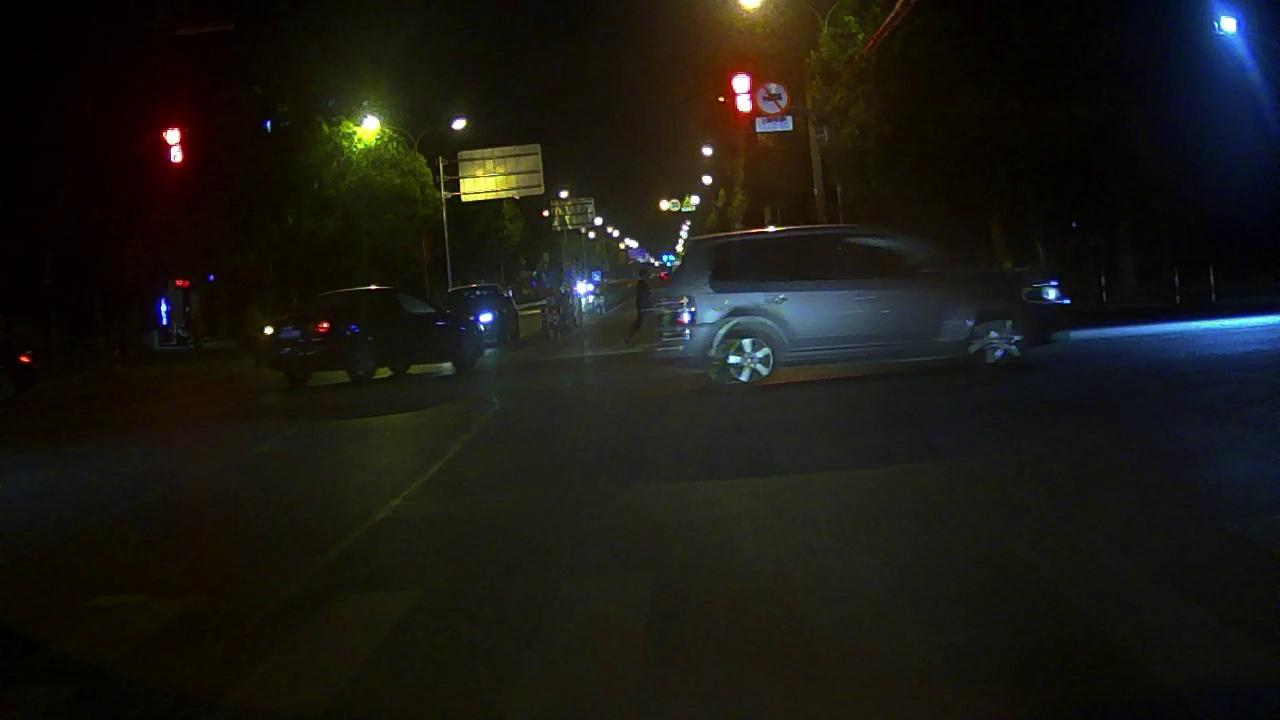traffic_light: (725, 66, 761, 120), (157, 120, 193, 171)
